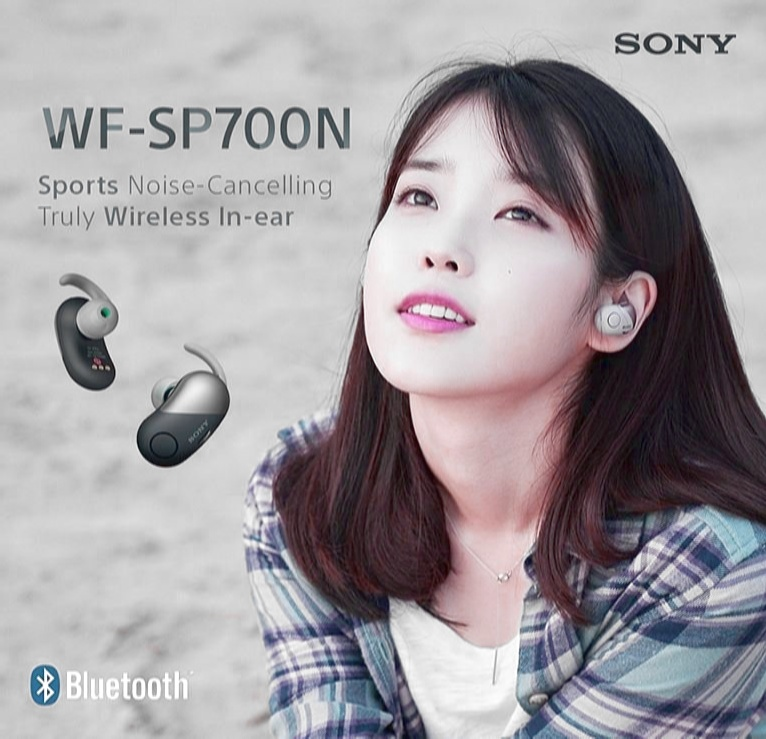earphone: (587, 270, 657, 353)
